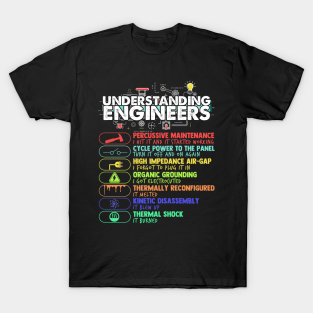design: (96, 78, 218, 225)
